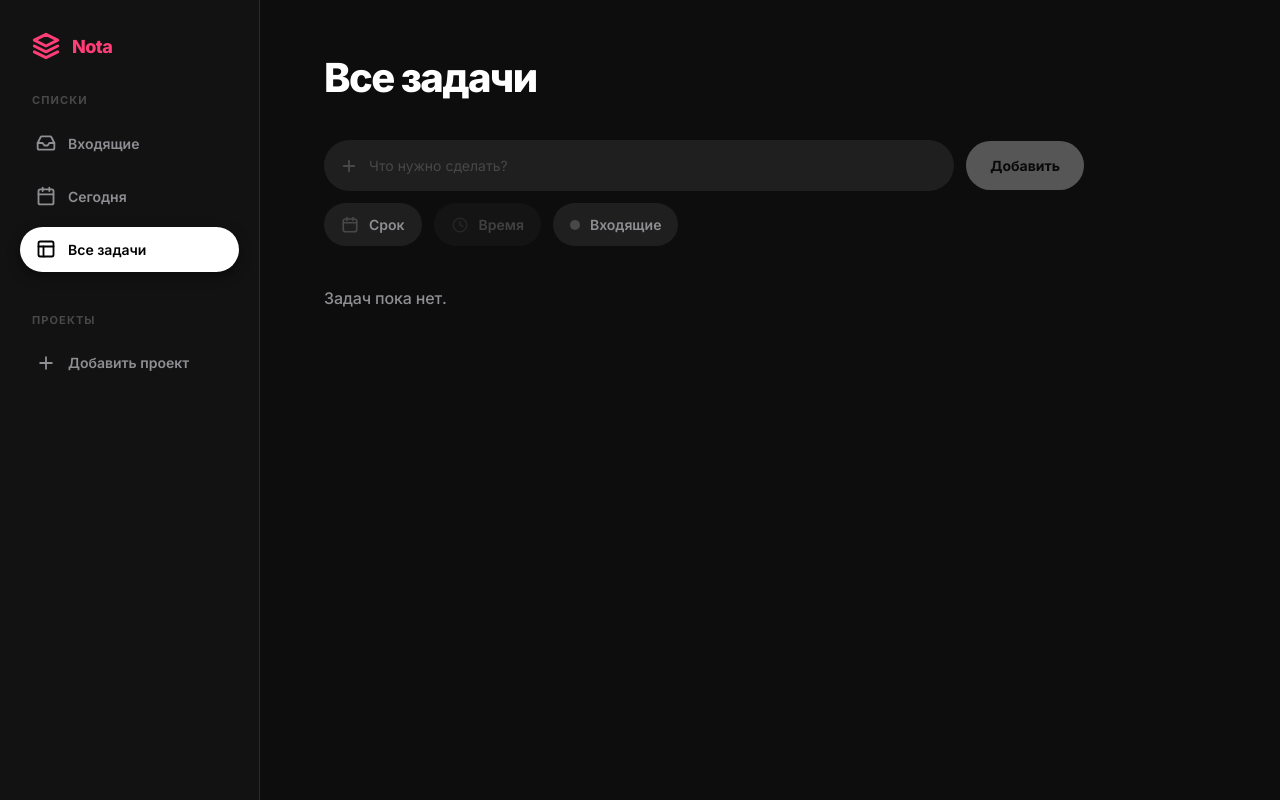
Test: форма добавления задачи › показывает созданную задачу в списке без перезагрузки страницы
The width and height of the screenshot is (1280, 800).
Expected: the text "Задач пока нет." is shown, [324,288,447,308]
In the field named "Заголовок новой задачи": point(639, 166) [324,140,954,191], type "Купить хлеб"
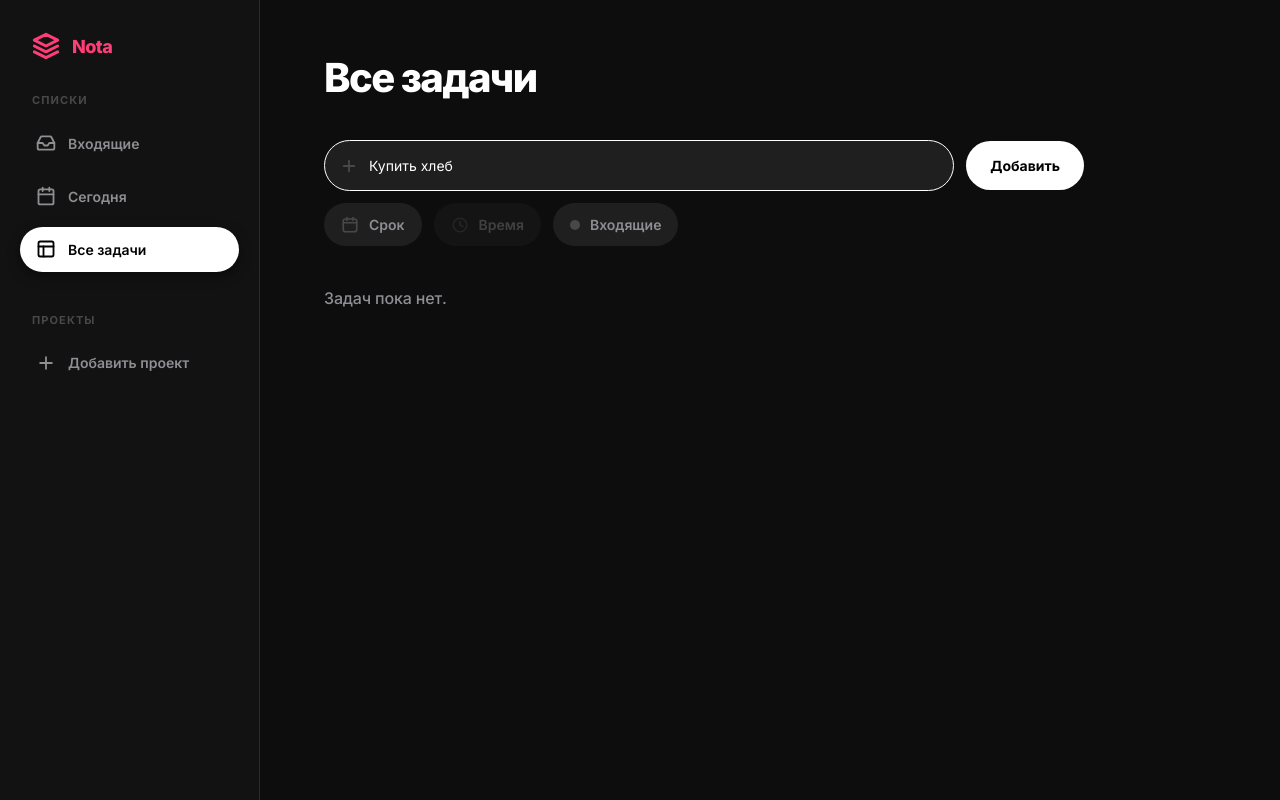
Click the button "Добавить": point(1025, 166) [966,141,1084,190]
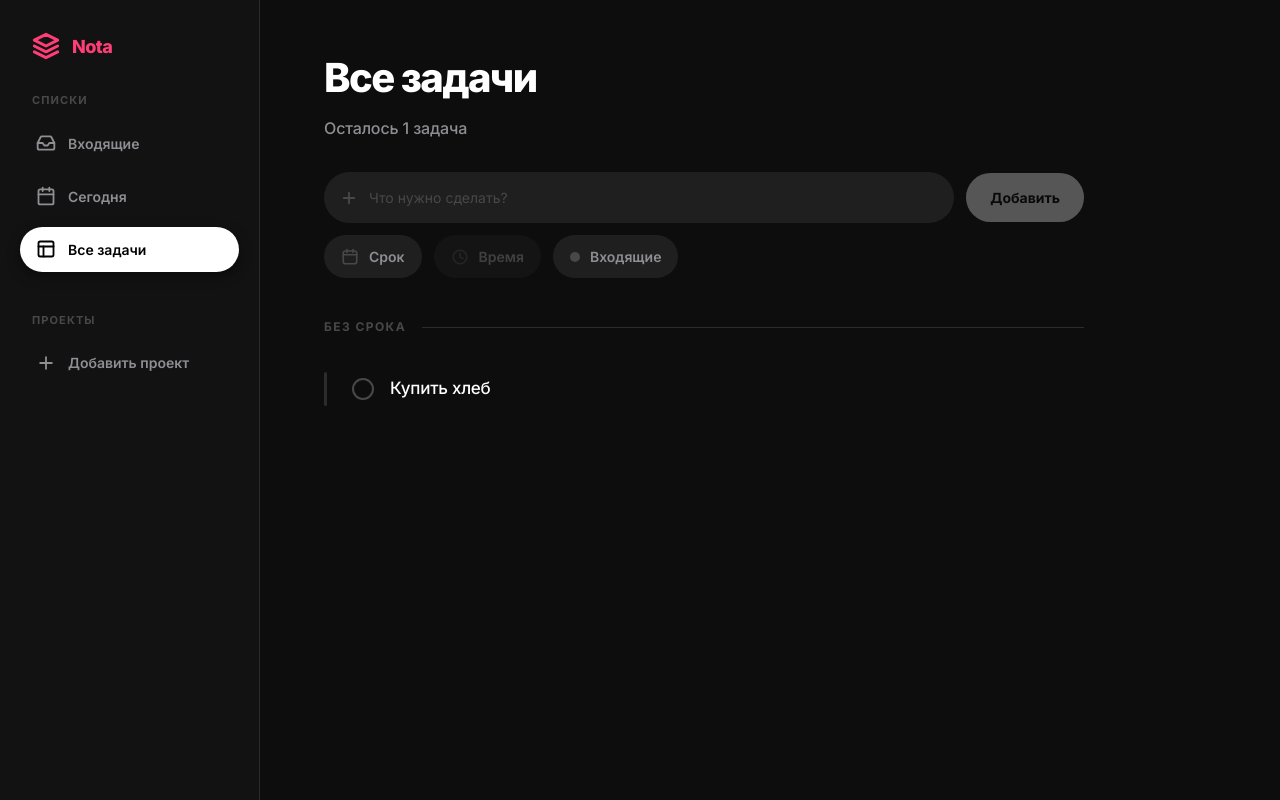
Expected: the button "Купить хлеб" is shown, [390,376,490,402]
Expected: the field named "Заголовок новой задачи" is empty, [324,172,954,223]
